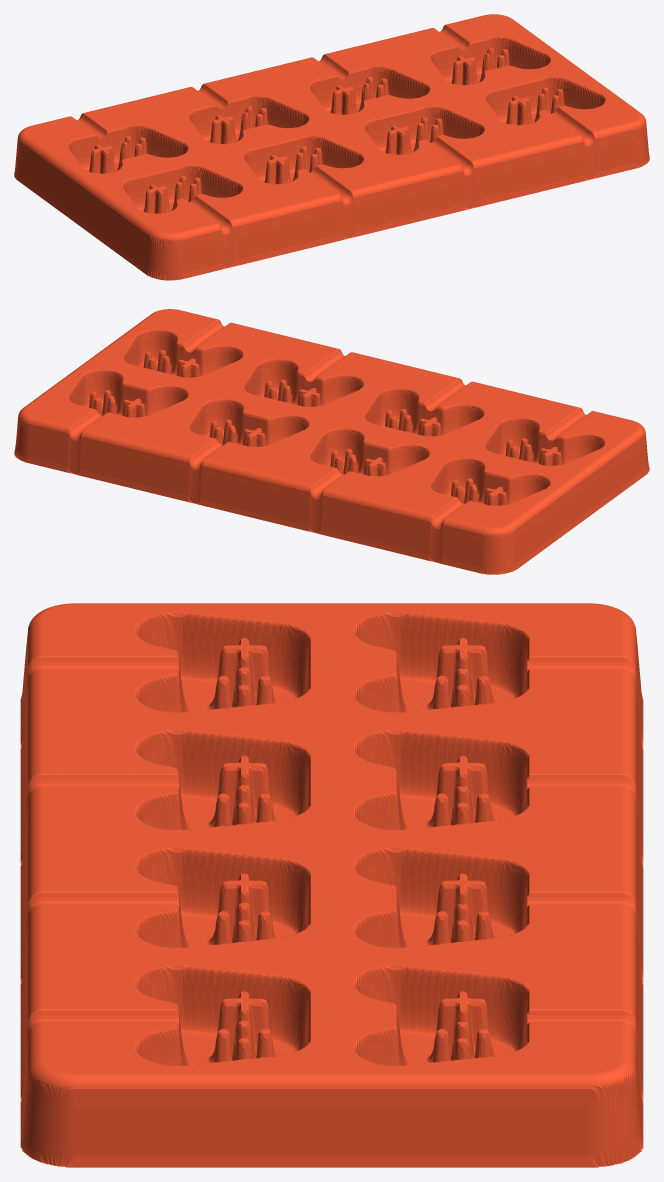
Rendered from mold.glb.
The picture shows the model from 3 angles, top to bottom: view 1: azimuth 30°, elevation 25°; view 2: azimuth 150°, elevation 25°; view 3: azimuth 270°, elevation 25°; orthographic projection. The views are drawn at different scales.
Parts seen in each view (by area): view 1: geometry_0; view 2: geometry_0; view 3: geometry_0.
Boxes of the visible parts, bbox=[...] form: geometry_0: bbox=[14, 14, 649, 280]; geometry_0: bbox=[14, 309, 649, 574]; geometry_0: bbox=[20, 603, 643, 1167].
Bounding box in the file's own units: 0.1907 × 0.0155 × 0.103.
